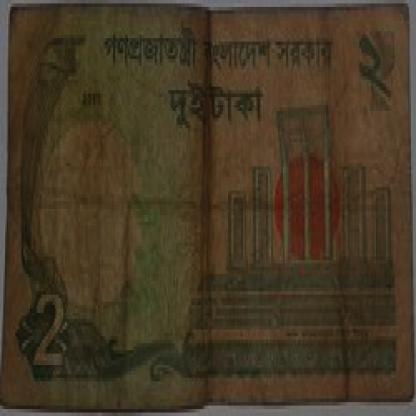two taka: (350, 28, 404, 118), (30, 298, 80, 385)
